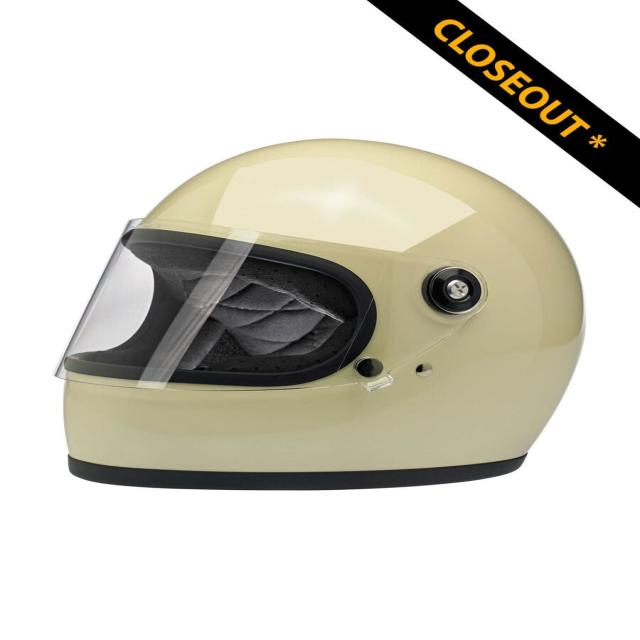helmet: (41, 130, 596, 497)
